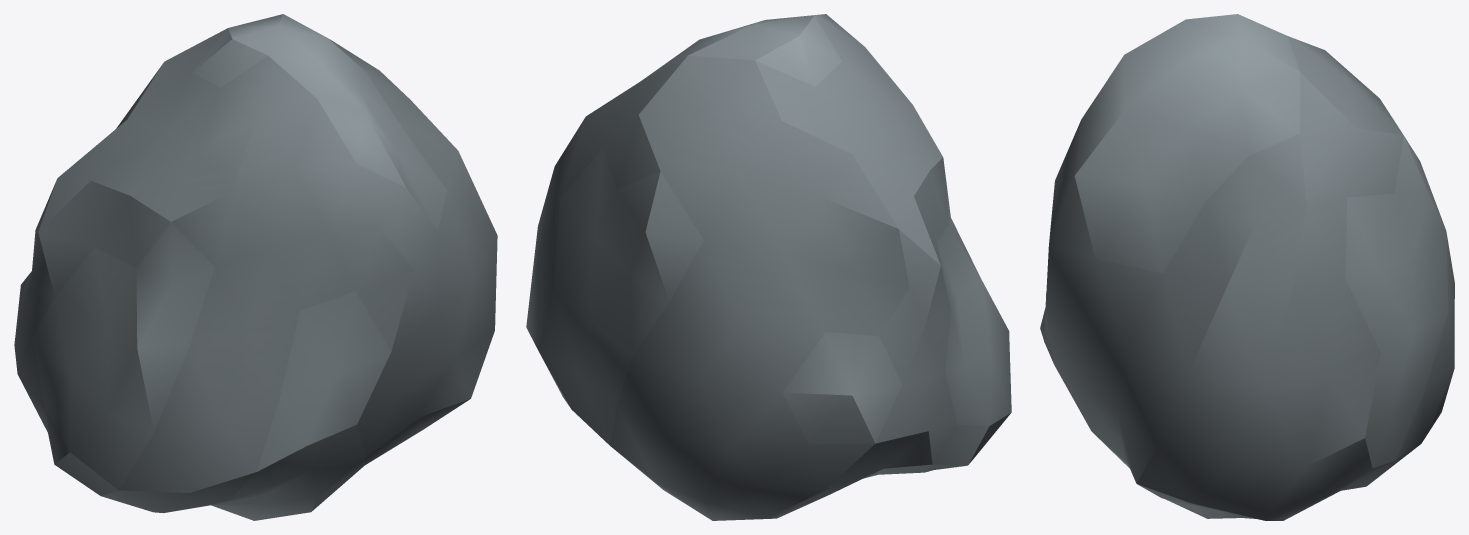
The model's file is Rock_3_M_Color1.fbx.
3 views of the same model, side by side, from view 1: azimuth 30°, elevation 25°; view 2: azimuth 150°, elevation 25°; view 3: azimuth 270°, elevation 25° (orthographic). The views are drawn at different scales.
Visible parts, largest first — view 1: Rock_3_M_Color1; view 2: Rock_3_M_Color1; view 3: Rock_3_M_Color1.
Part boxes in pixels (box(x1,y1,x2,y2)): Rock_3_M_Color1: box(14, 14, 497, 520); Rock_3_M_Color1: box(526, 14, 1011, 520); Rock_3_M_Color1: box(1040, 14, 1454, 520).
Bounding box in the file's own units: 3.43 × 3.6 × 2.81.
